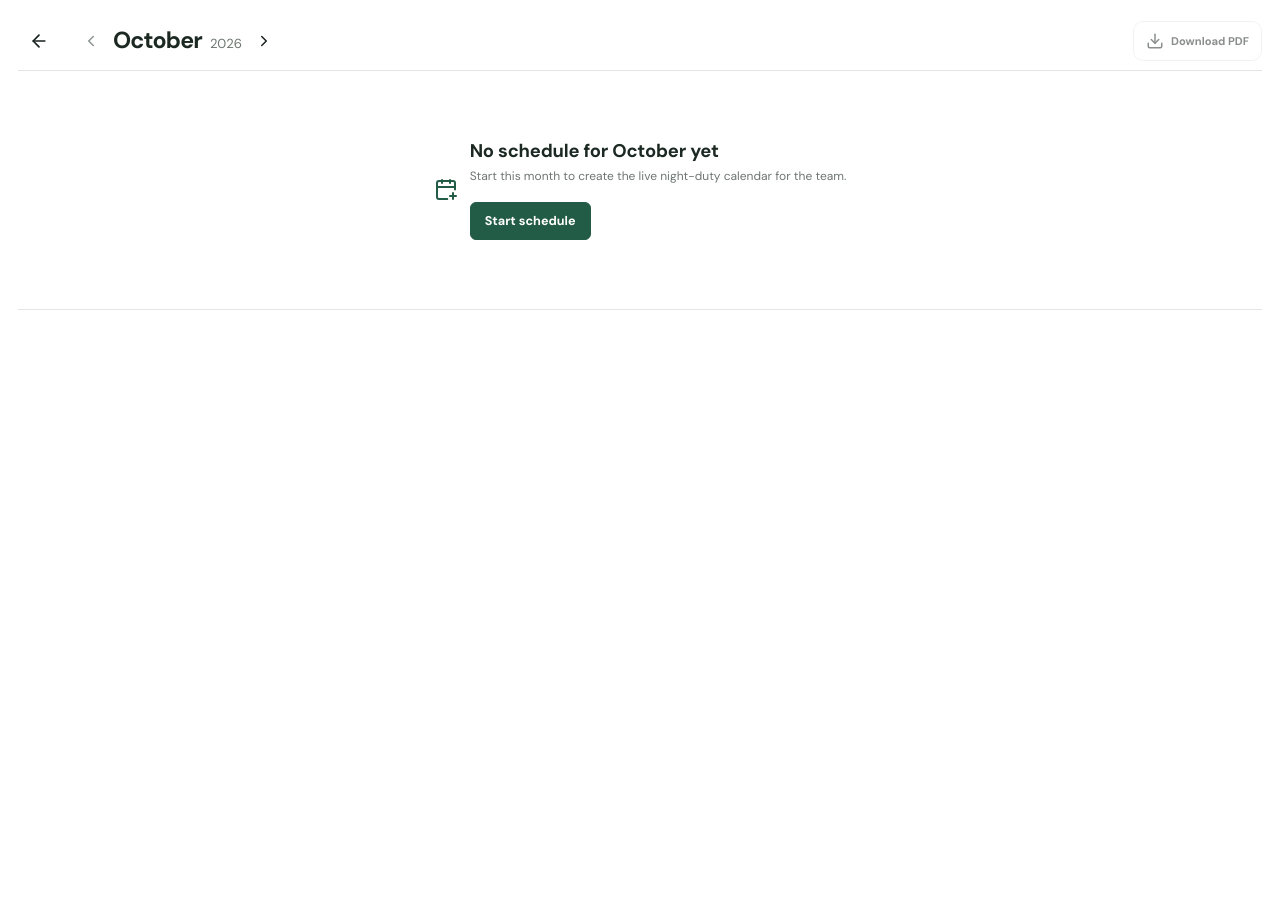
Scenario: Schedule page month window › lets a Hall Director start a missing schedule from the calendar
Click the button "Start schedule": point(530, 221) left=470, top=202, right=590, bottom=240
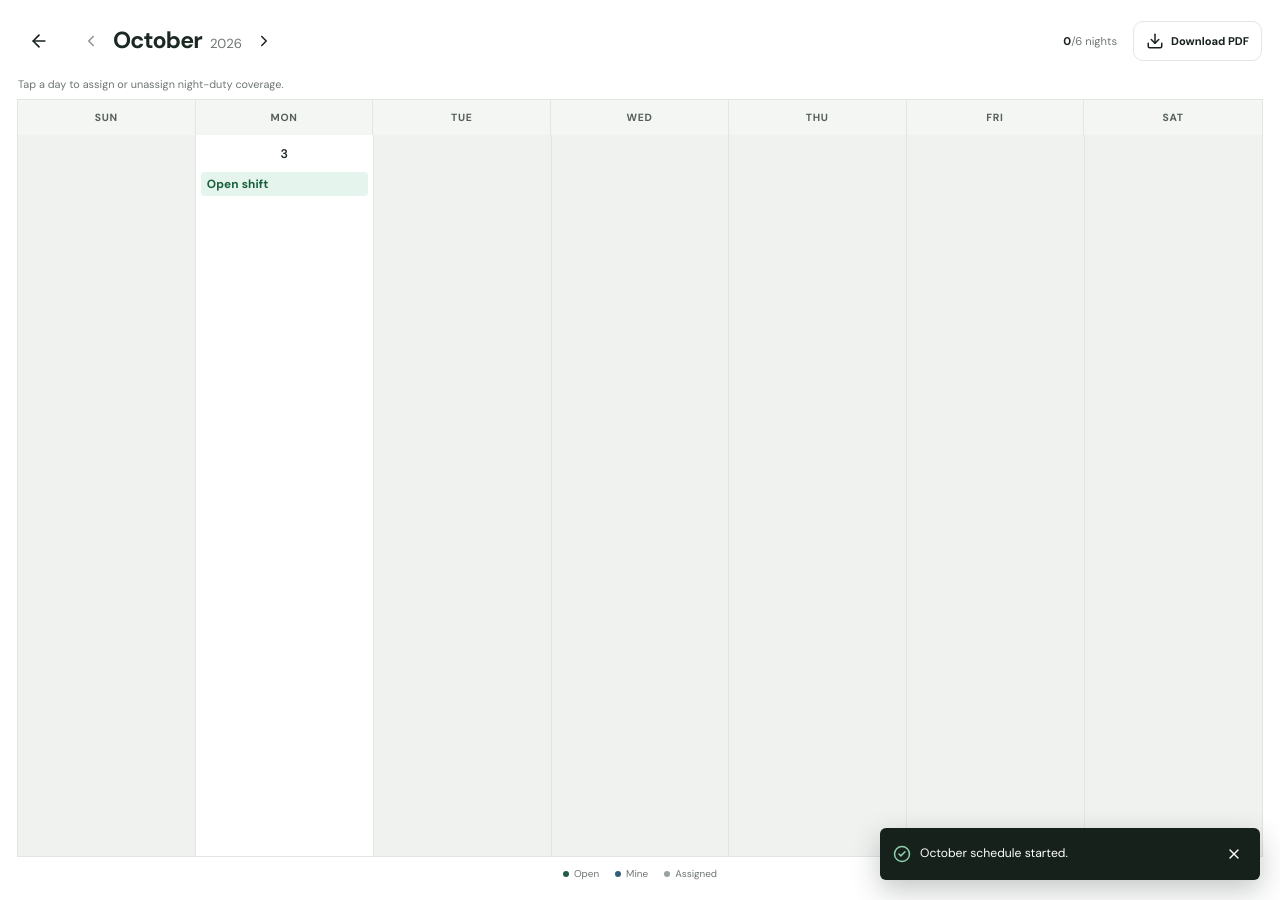
Check: the button with aria-label "Download schedule PDF" is enabled, box left=1133, top=21, right=1262, bottom=61
